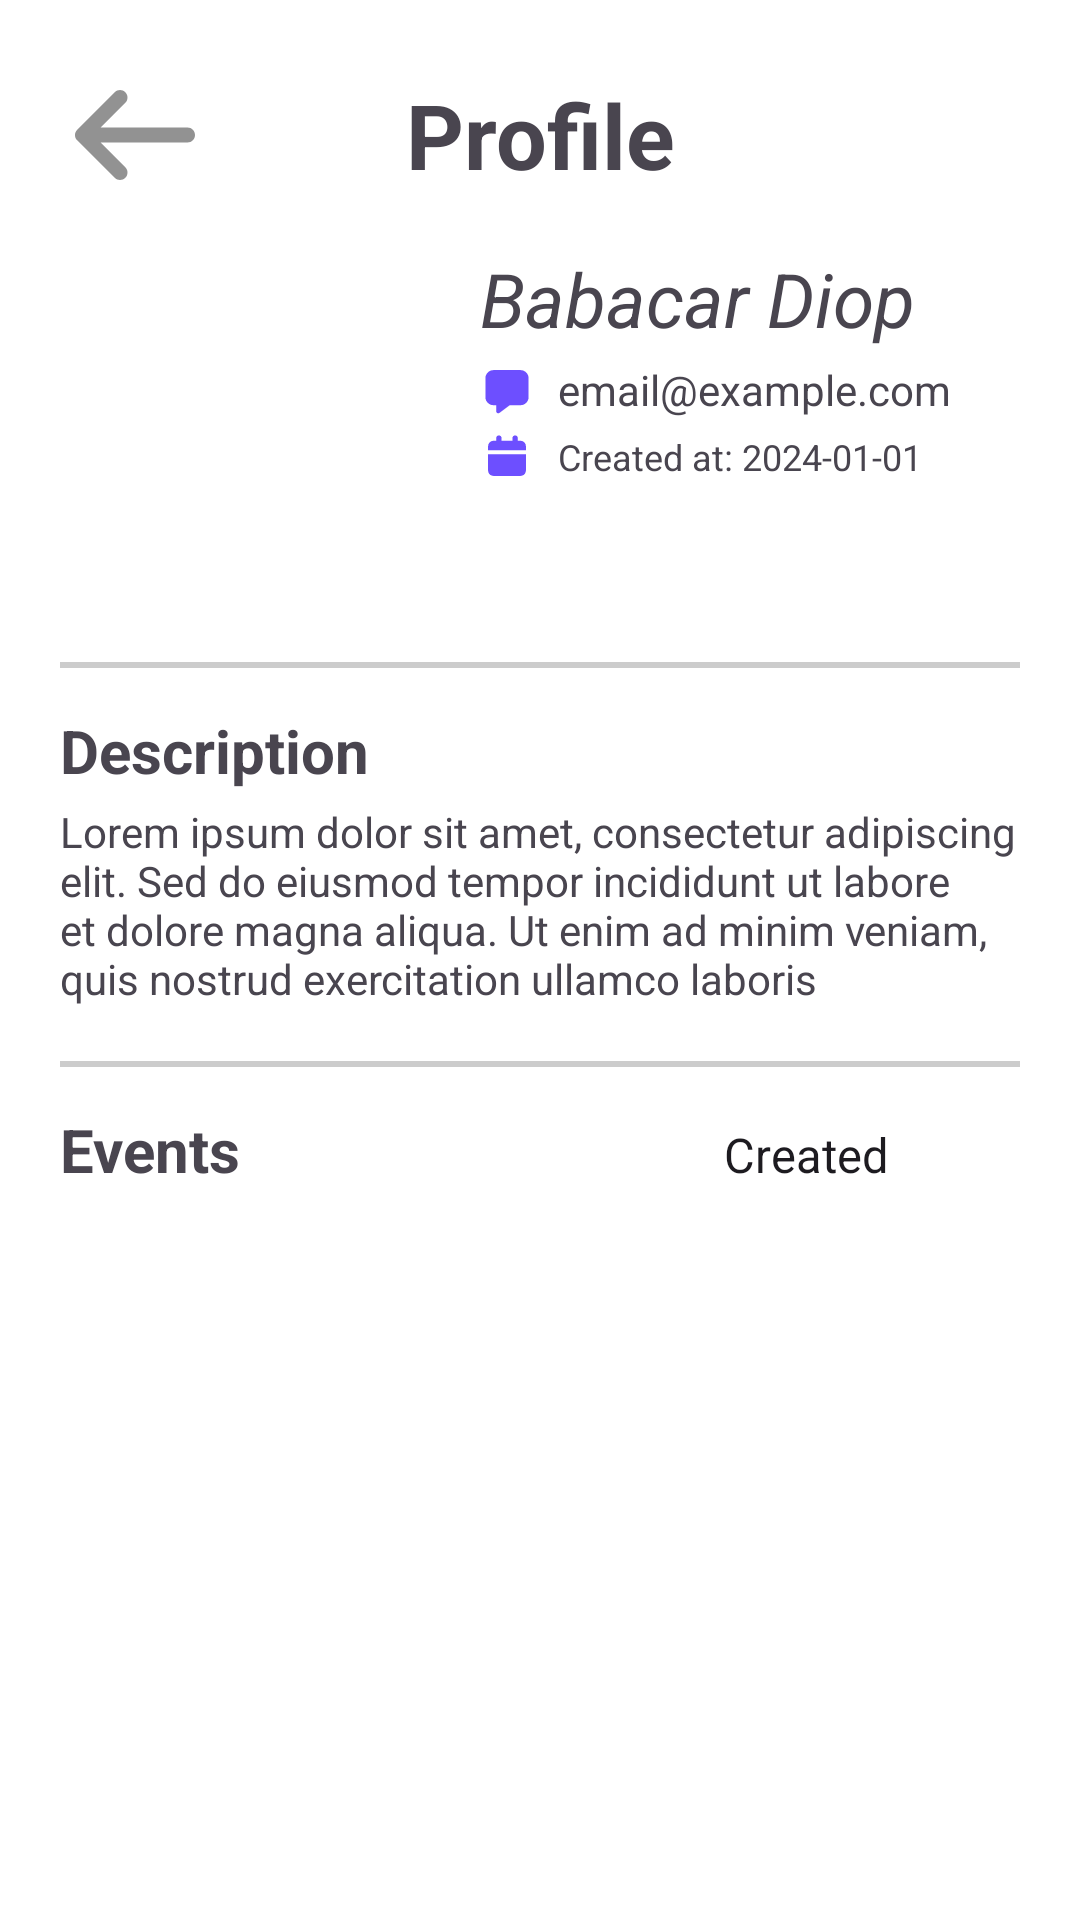

Screen size 1080*1920. Icon name, then its box in pixels as bbox=[x1, y1, x2, y2]:
arrow left: bbox=[75, 90, 195, 180]
calendar: bbox=[488, 435, 526, 476]
